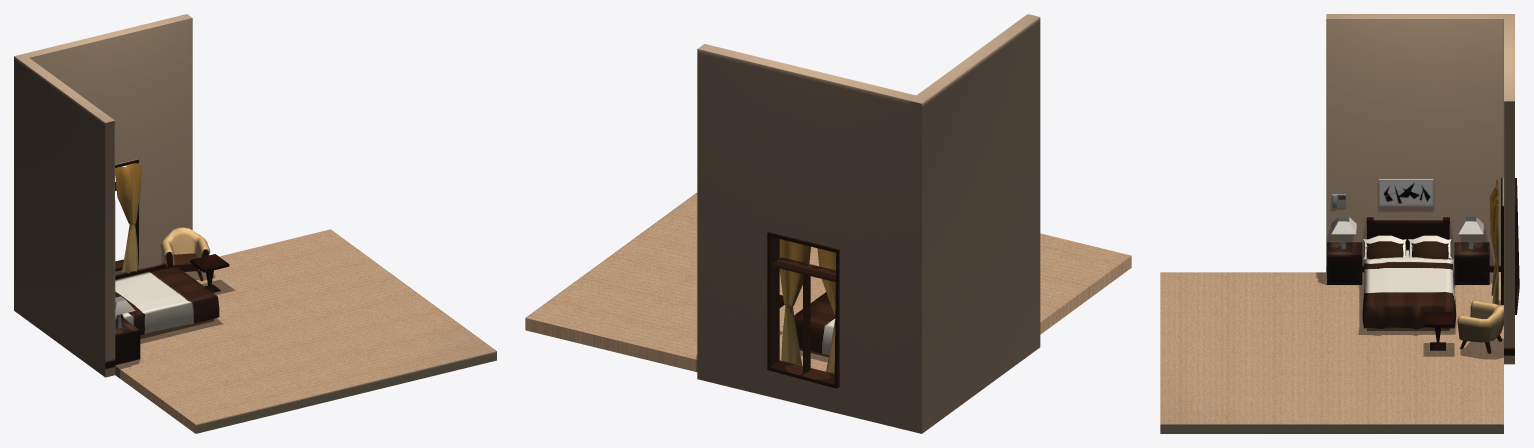
Rendered from Tx_Interior_Work_HotelT2_20170809.fbx.
3 renders of one model, left to right at view 1: azimuth 30°, elevation 25°; view 2: azimuth 150°, elevation 25°; view 3: azimuth 270°, elevation 25°, orthographic. The views are drawn at different scales.
Visible parts, largest first — view 1: polySurface335, polySurface867, polySurface885, polySurface876, polySurface361, polySurface37; view 2: polySurface335, polySurface885, polySurface867, polySurface884, pCube210, pCube1; view 3: polySurface335, polySurface867, polySurface866, polySurface876, polySurface865, polySurface361, polySurface870, polySurface37, polySurface885, polySurface882, polySurface881, polySurface872 (+3 smaller).
Boxes of the visible parts, x1=… form: polySurface335: x1=14, y1=14, x2=496, y2=433; polySurface867: x1=115, y1=265, x2=219, y2=334; polySurface885: x1=115, y1=162, x2=141, y2=273; polySurface876: x1=160, y1=227, x2=210, y2=280; polySurface361: x1=115, y1=318, x2=140, y2=364; polySurface37: x1=190, y1=254, x2=229, y2=292; polySurface335: x1=525, y1=14, x2=1131, y2=433; polySurface885: x1=779, y1=239, x2=810, y2=365; polySurface867: x1=794, y1=292, x2=835, y2=355; polySurface884: x1=817, y1=248, x2=836, y2=373; pCube210: x1=803, y1=274, x2=810, y2=373; pCube1: x1=772, y1=257, x2=835, y2=282; polySurface335: x1=1160, y1=14, x2=1519, y2=433; polySurface867: x1=1362, y1=257, x2=1455, y2=329; polySurface866: x1=1366, y1=217, x2=1449, y2=330; polySurface876: x1=1457, y1=300, x2=1503, y2=353; polySurface865: x1=1379, y1=179, x2=1433, y2=206; polySurface361: x1=1327, y1=242, x2=1362, y2=284; polySurface870: x1=1454, y1=242, x2=1489, y2=284; polySurface37: x1=1423, y1=312, x2=1452, y2=350; polySurface885: x1=1490, y1=193, x2=1498, y2=304; polySurface882: x1=1411, y1=241, x2=1448, y2=259; polySurface881: x1=1366, y1=241, x2=1403, y2=259; polySurface872: x1=1331, y1=217, x2=1356, y2=248.
Size of the model in its own units: 40.4 by 31.58 by 39.11.
Materials: 1 (1 with a texture image).
